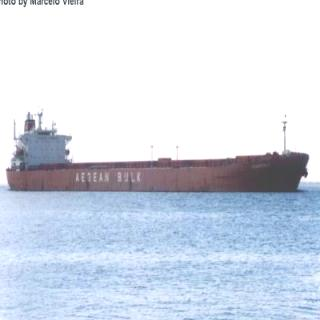Bulk Carrier: (0, 133, 317, 194)
